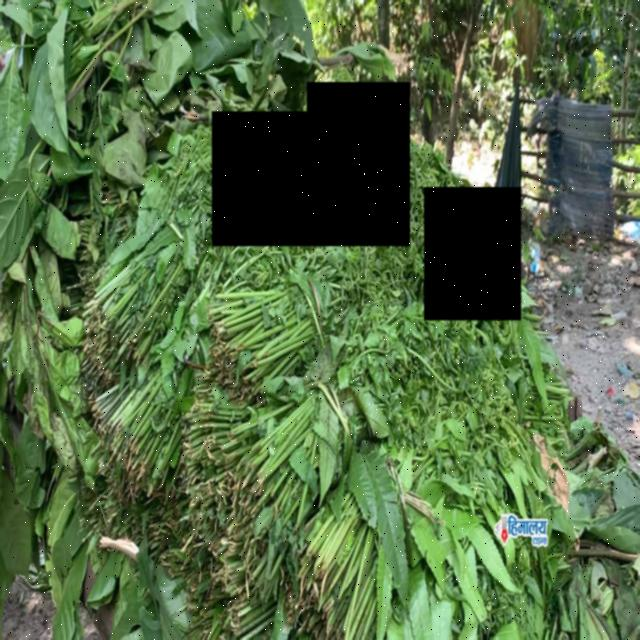Fiddlehead_Ferns: (307, 83, 410, 247), (212, 112, 311, 247), (424, 187, 521, 320)
